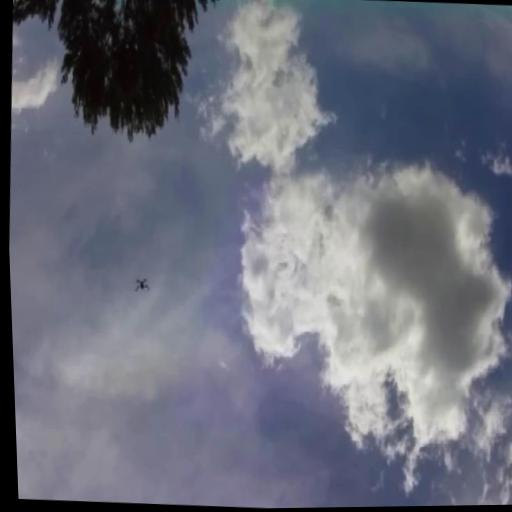drones: (134, 268, 152, 297)
